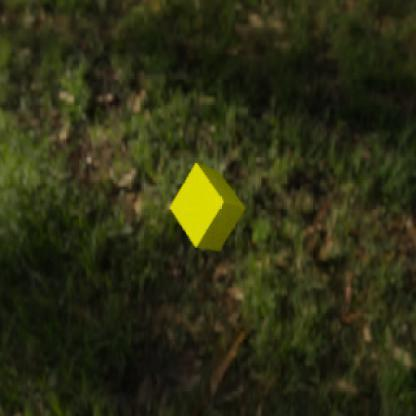cube: (169, 162, 246, 252)
